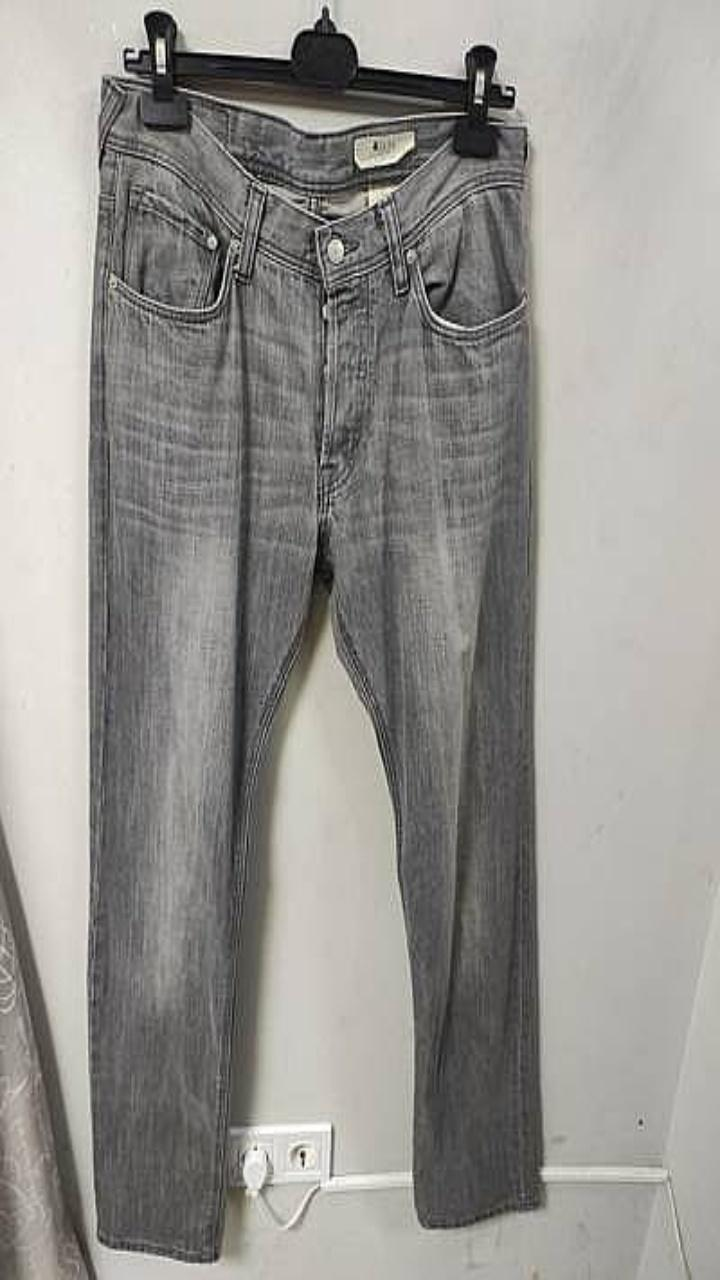Jeans: (88, 75, 541, 1261)
